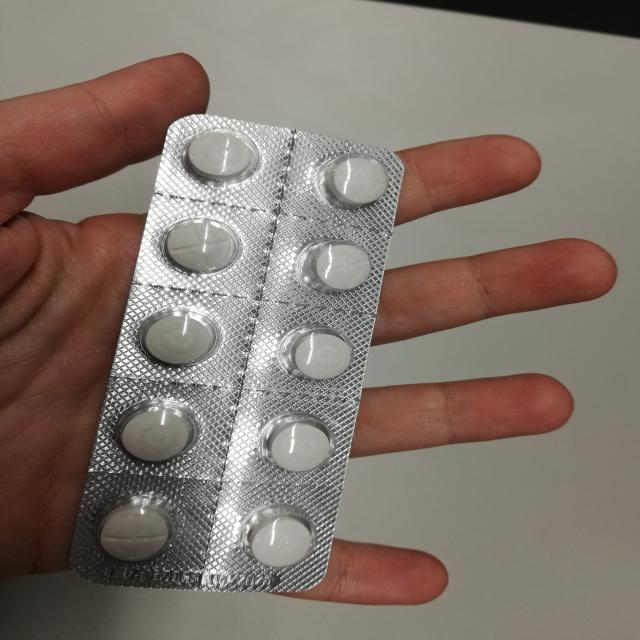Pill: (309, 144, 396, 221), (89, 497, 183, 568), (111, 397, 204, 464), (154, 214, 248, 278), (285, 236, 380, 299), (133, 307, 224, 372), (178, 122, 265, 188), (256, 415, 335, 478), (243, 511, 322, 572), (280, 324, 358, 384)
